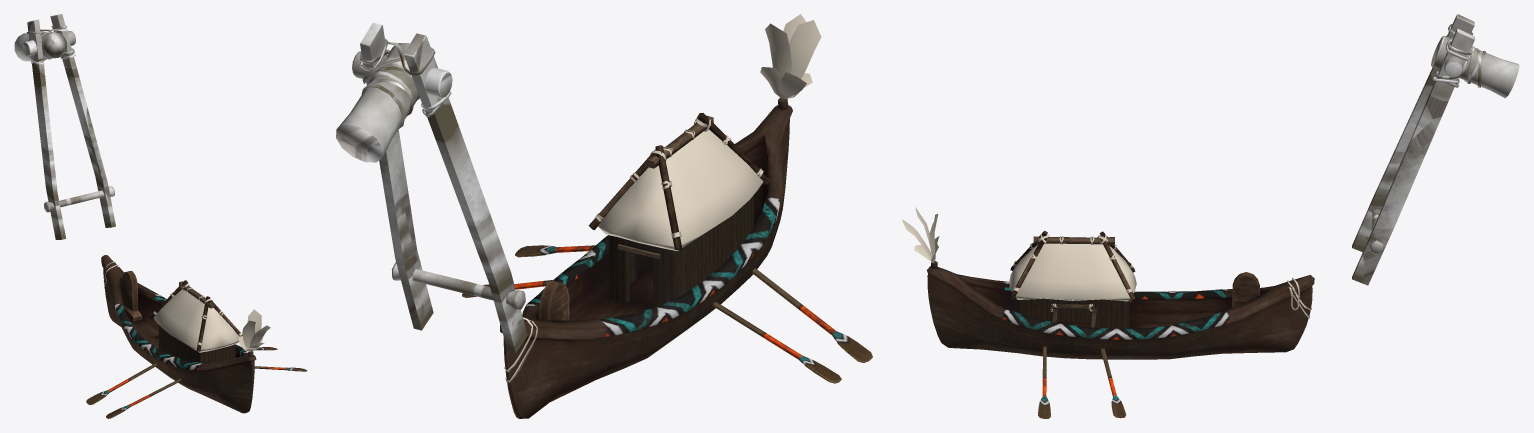
The model's file is 270-tepoztlicanoe.glb.
3 views of the same model, side by side, from view 1: azimuth 30°, elevation 25°; view 2: azimuth 150°, elevation 25°; view 3: azimuth 270°, elevation 25° (orthographic). The views are drawn at different scales.
Bounding box in the file's own units: 5.09 × 6.63 × 10.85.
Materials: 3 (2 with a texture image).
